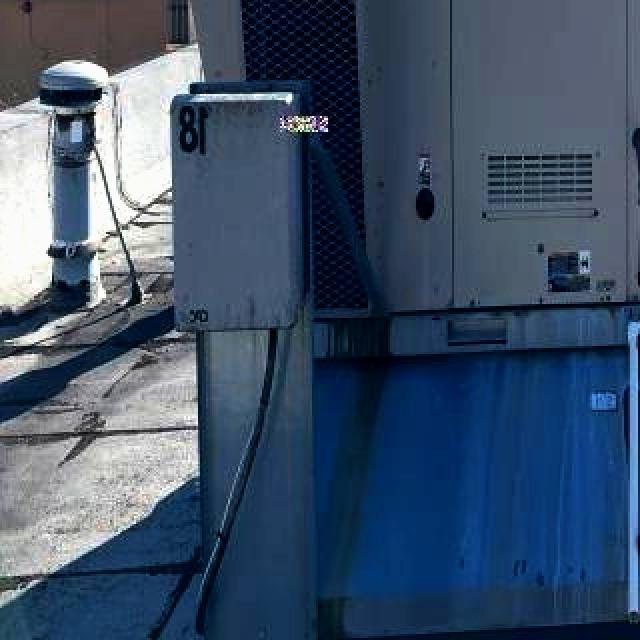GRAVITY-VENT: (27, 52, 114, 318)
RTU: (152, 0, 640, 380)
